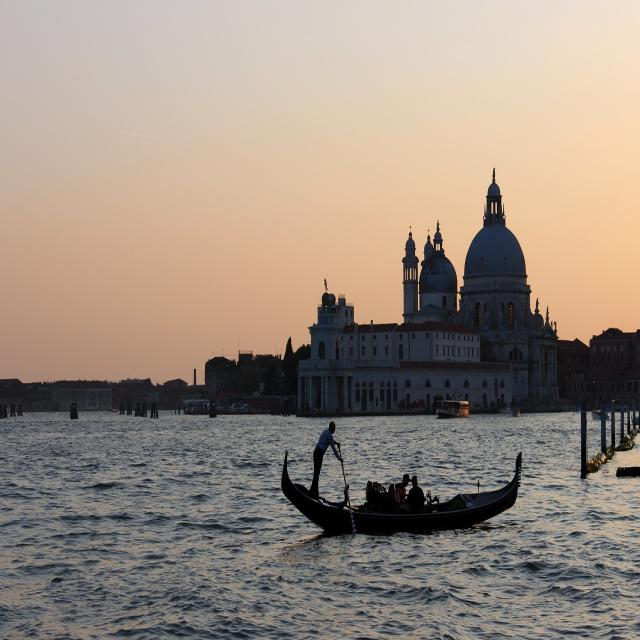boat: (268, 411, 538, 571)
